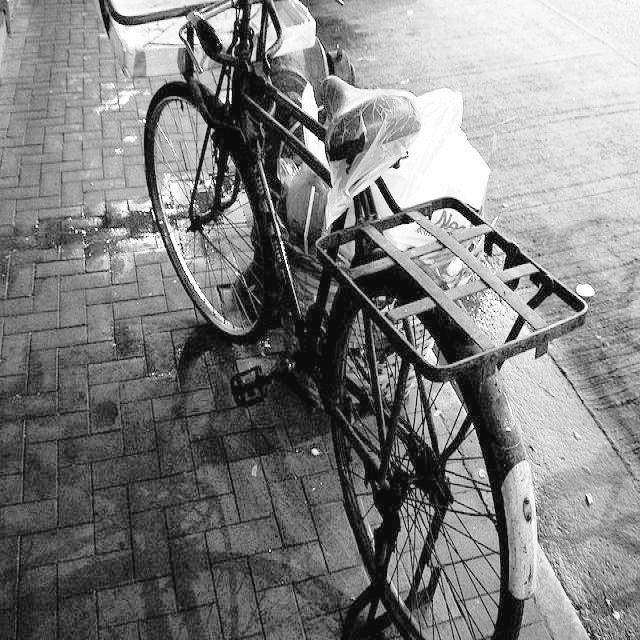Bicycle: (143, 1, 567, 639)
